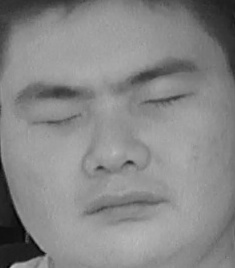blink: (139, 80, 193, 118), (30, 102, 84, 137)
mouth: (83, 185, 167, 226)
